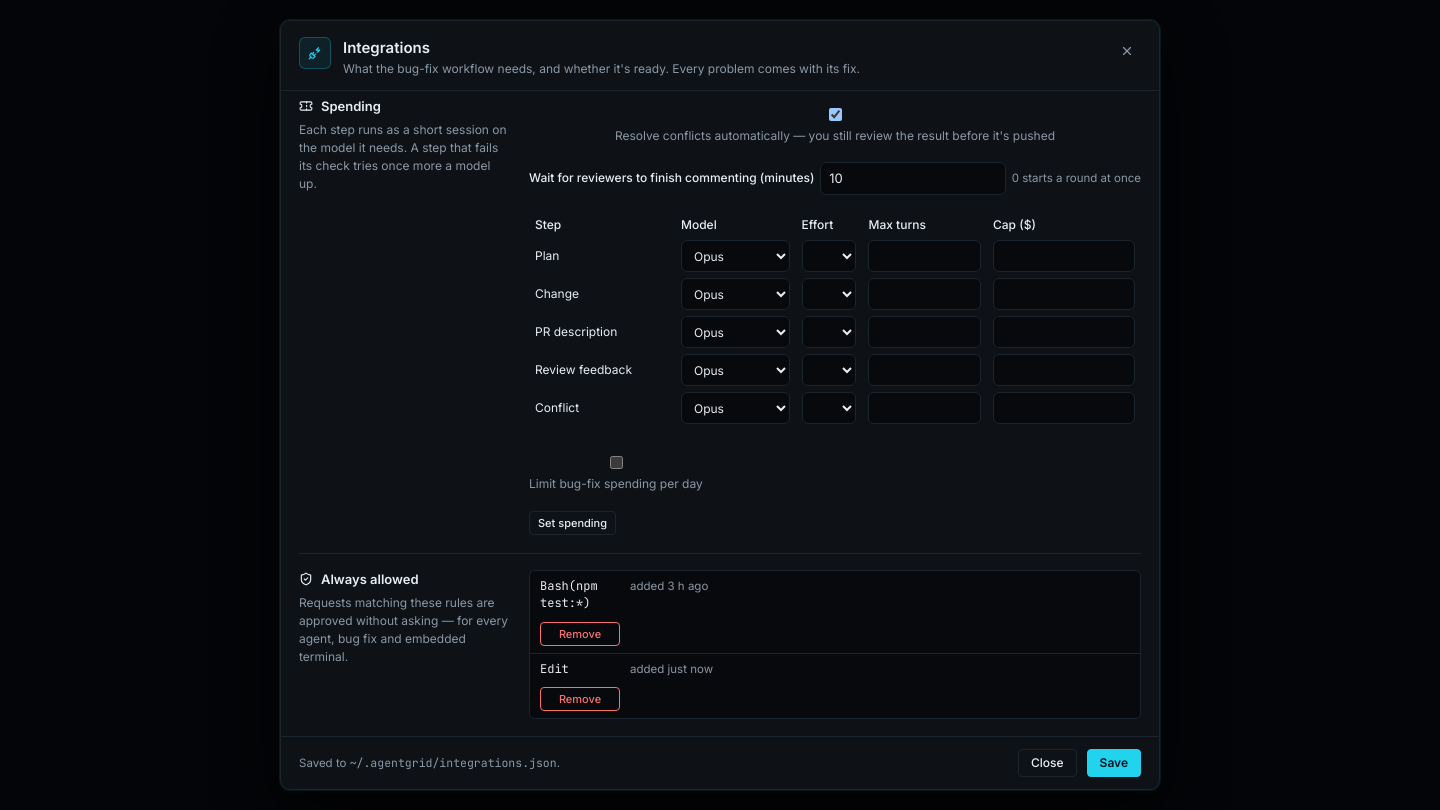
it: SettingsDialog — Always allowed › lists the shared rules, and removes one
(page scrolled)
Expected: the text "Bash(npm test:*)" is shown, [540,578,598,611]
Expected: the text "for every agent, bug fix and embedded terminal" is shown, [299,595,508,664]
What coordinates should you click on to do the following:
click the button with aria-label "Remove Bash(npm test:*)"
I would click on:
 (580, 634)
Its box is [540,622,620,646].
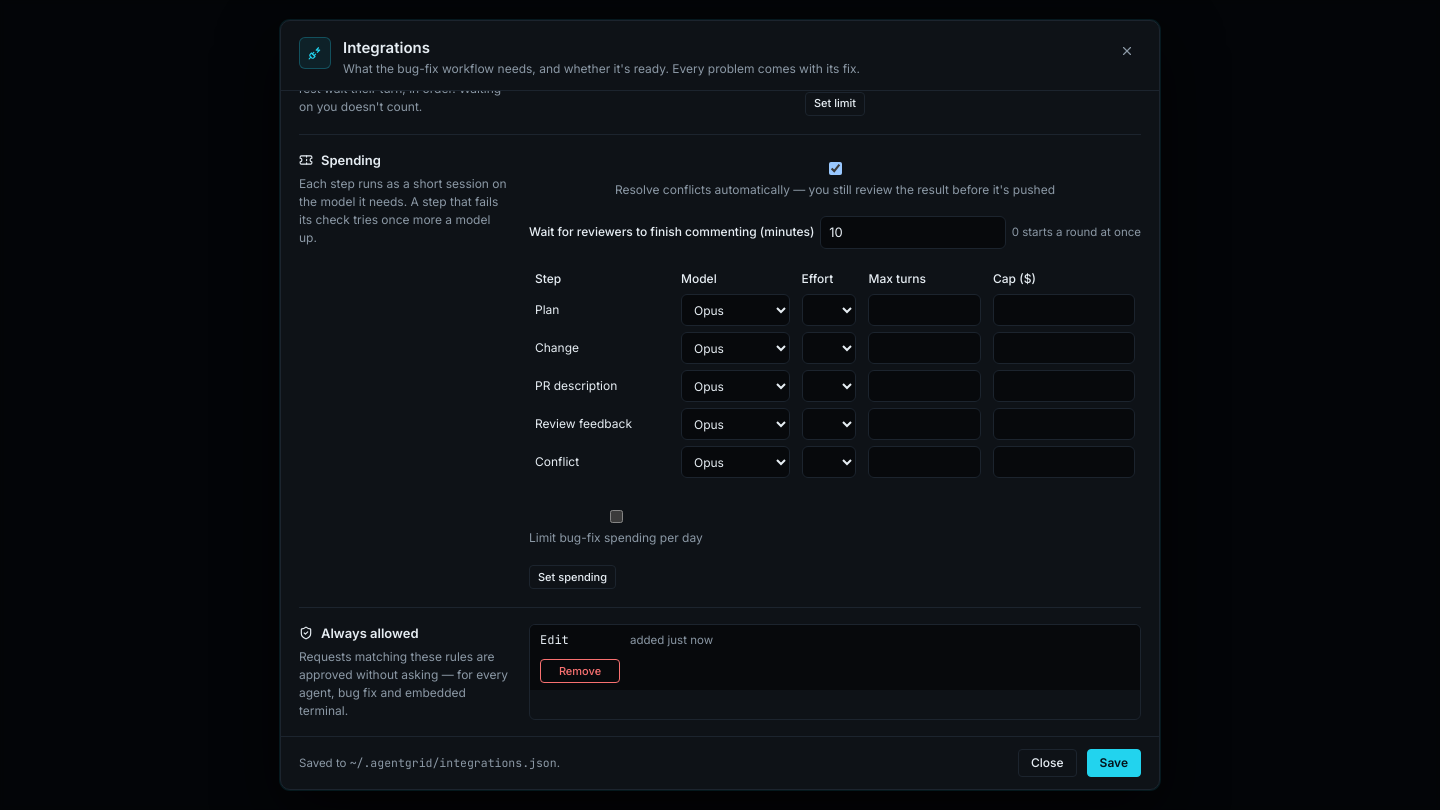
Expected: the text "Bash(npm test:*)" is gone
